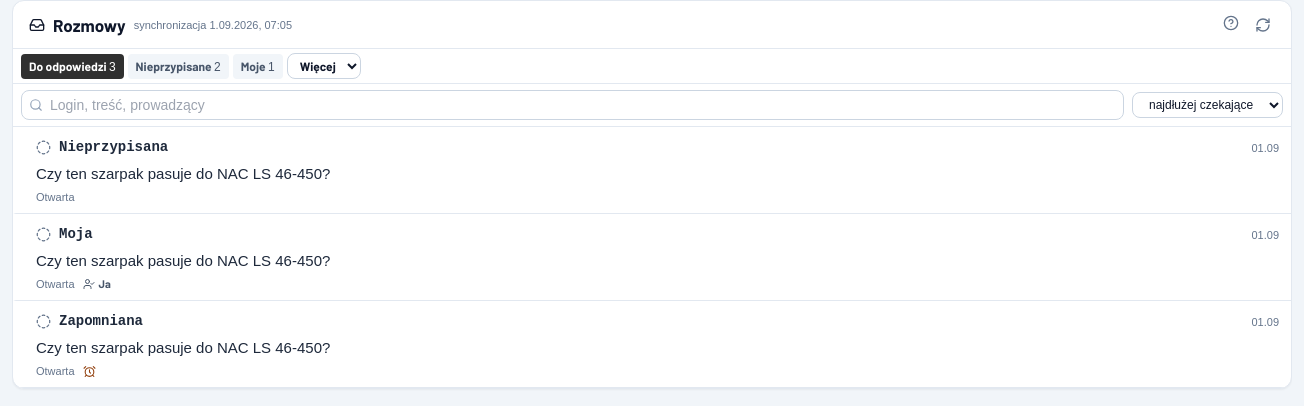
it: Kolejka › zakończona schodzi z roboczych do „Zakończonych” — także zamknięta sprzed tej wersji
Select "Zakończone · 1" in the dropdown named "Więcej kubełków": point(324, 66) [287, 53, 361, 79]
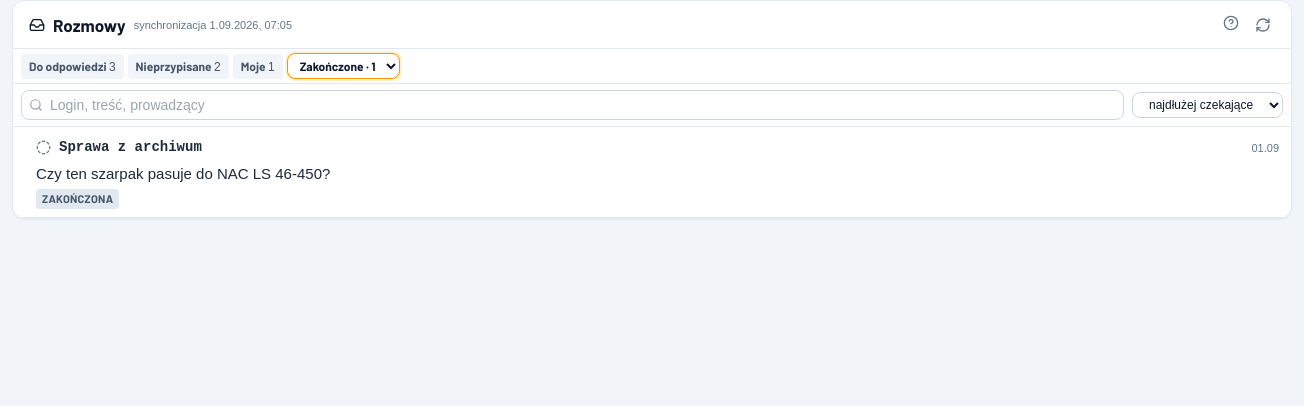
Check: the text "Sprawa z archiwum" is shown, box [59, 137, 202, 157]
Check: the button "Moja" is gone
